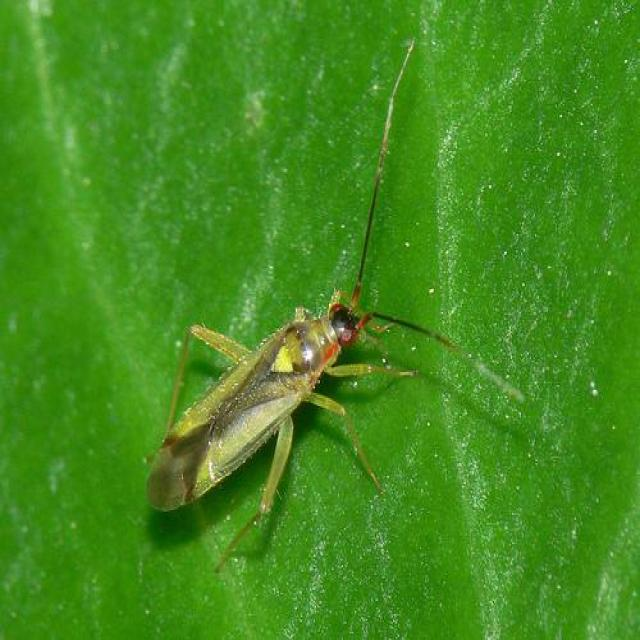Miridae-Adult-: (96, 23, 526, 572)
